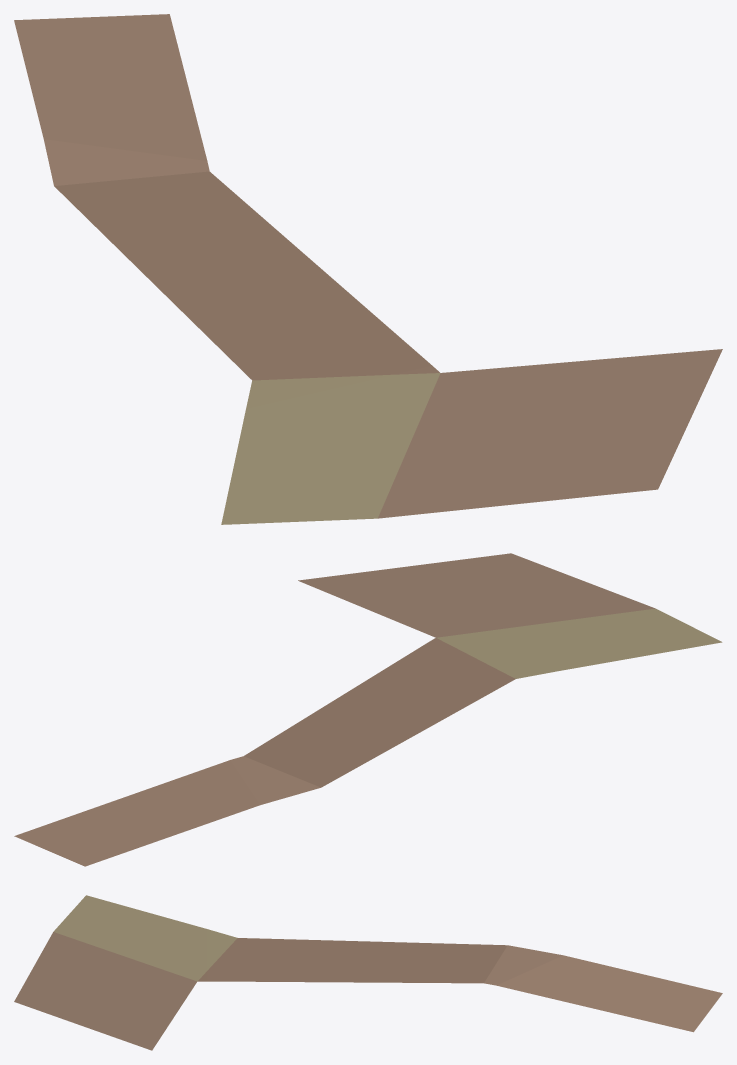
File: farm_-44_-35_soil.glb
The picture shows the model from 3 angles, top to bottom: view 1: azimuth 30°, elevation 25°; view 2: azimuth 150°, elevation 25°; view 3: azimuth 270°, elevation 25°; orthographic projection. The views are drawn at different scales.
Parts seen in each view (by area): view 1: geometry_0; view 2: geometry_0; view 3: geometry_0.
Part boxes in pixels (bbox=[...]): geometry_0: bbox=[14, 14, 722, 524]; geometry_0: bbox=[14, 553, 722, 866]; geometry_0: bbox=[14, 895, 722, 1050].
Size of the model in its own units: 53.03 by 2.02 by 104.
